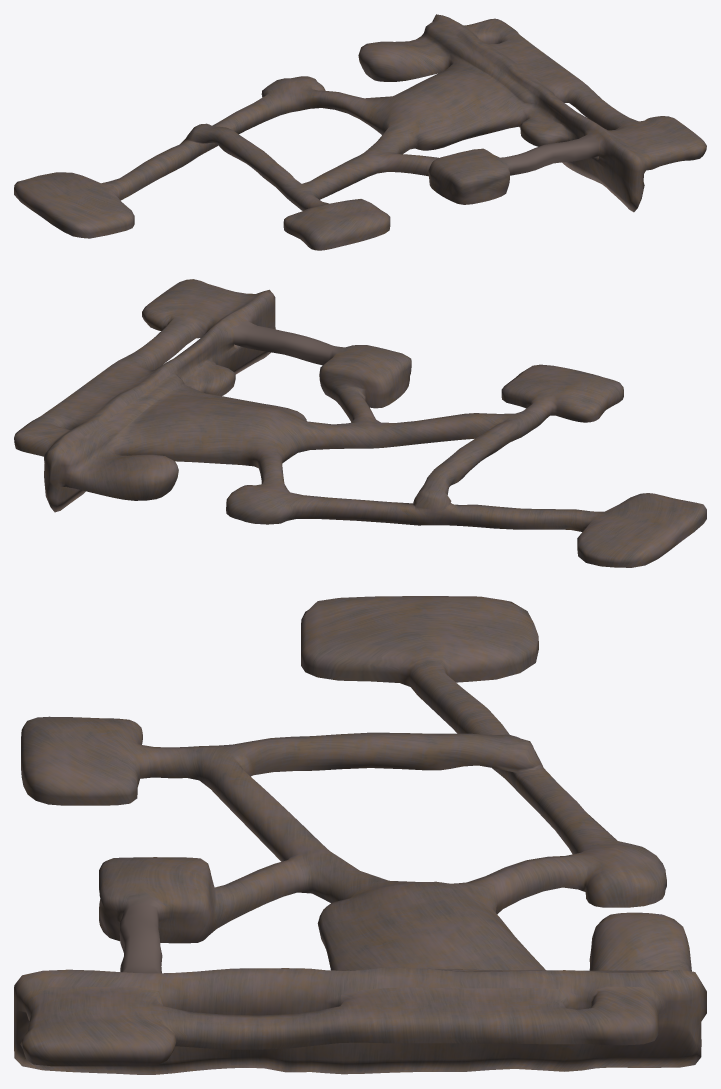
Rendered from Level1_final.fbx.
The picture shows the model from 3 angles, top to bottom: view 1: azimuth 30°, elevation 25°; view 2: azimuth 150°, elevation 25°; view 3: azimuth 270°, elevation 25°; orthographic projection. The views are drawn at different scales.
Visible parts, largest first — view 1: Floor1_walls; view 2: Floor1_walls; view 3: Floor1_walls.
Part boxes in pixels (<box>): Floor1_walls: <box>14,14,706,250</box>; Floor1_walls: <box>14,279,706,567</box>; Floor1_walls: <box>14,596,706,1074</box>.
Bounding box in the file's own units: 696 × 69.94 × 436.
